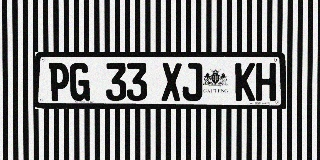3: (106, 63, 126, 101), (127, 63, 147, 101)
G: (70, 63, 90, 101)
H: (256, 63, 276, 101)
J: (182, 63, 202, 101)
K: (235, 63, 255, 101)
P: (49, 63, 69, 101)
X: (162, 63, 182, 101)
